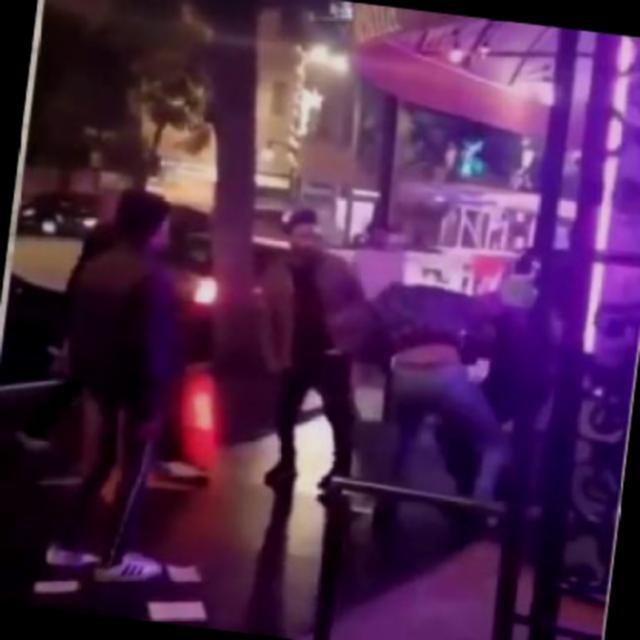non-fight: (40, 183, 206, 582)
